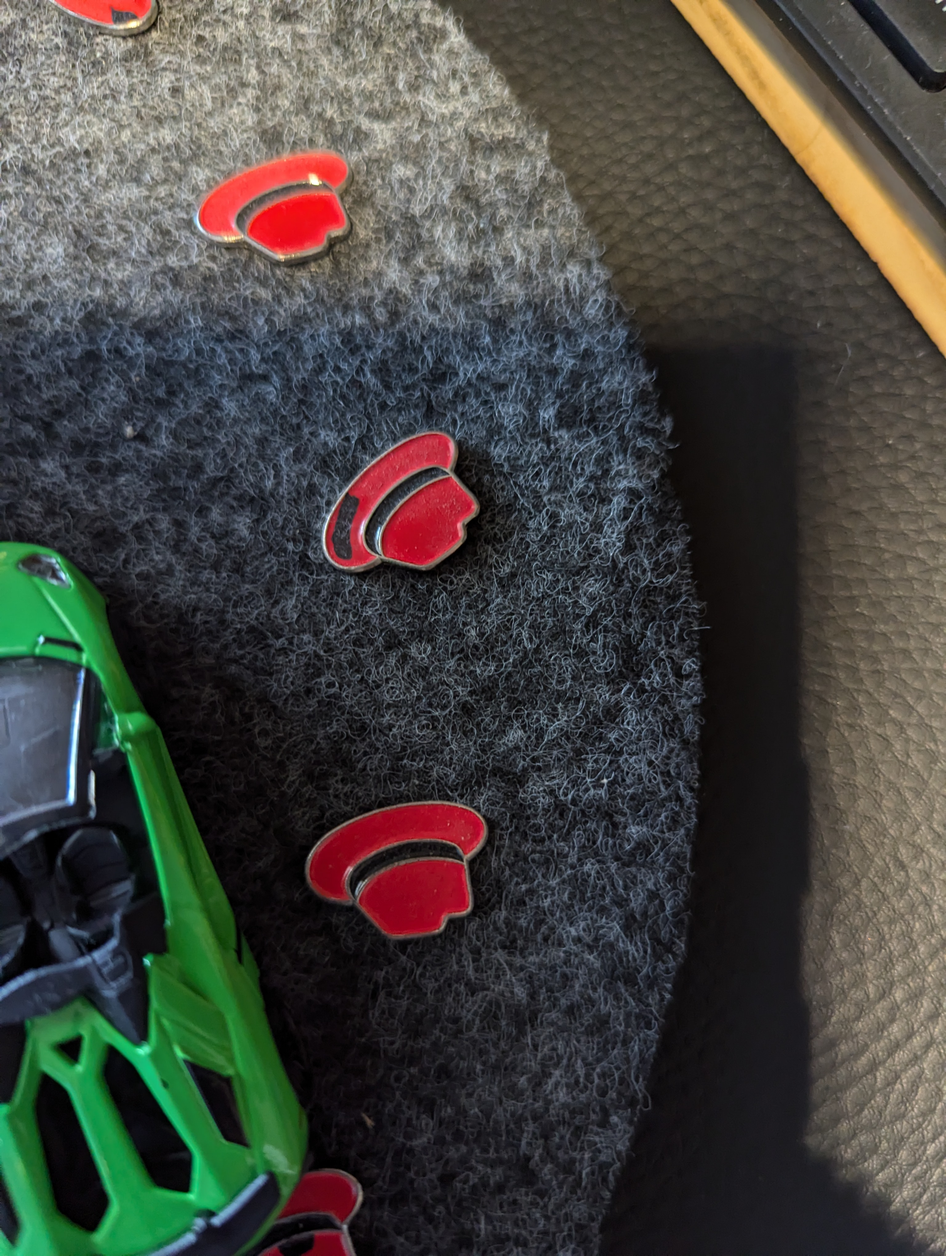Car: (0, 511, 316, 1256)
Red-Hat: (276, 774, 509, 955), (293, 411, 512, 599), (172, 123, 380, 273), (237, 1149, 382, 1256)
Scratch: (322, 476, 378, 572), (279, 1214, 326, 1256)
